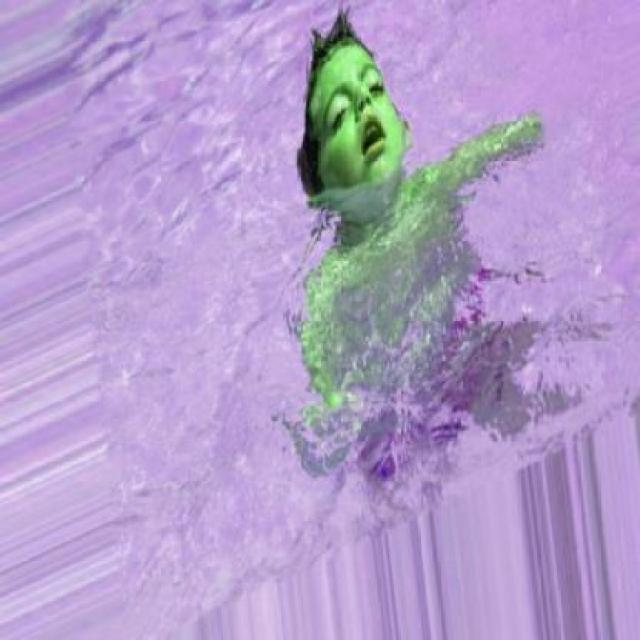drowning: (118, 27, 598, 576)
